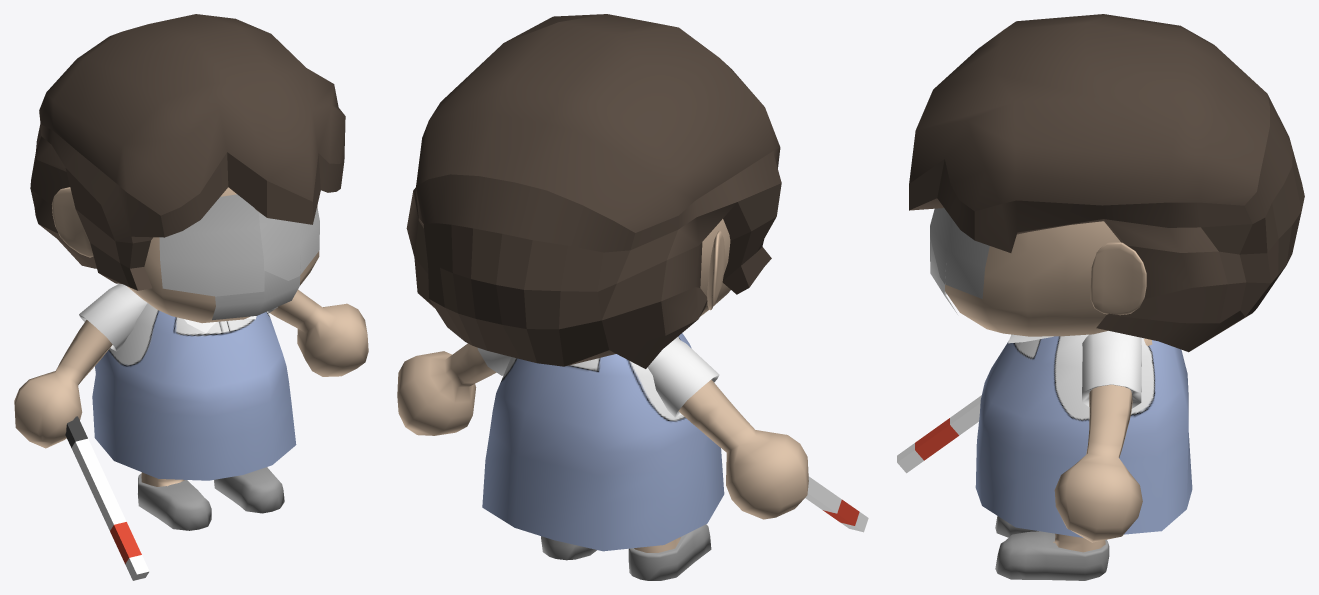
Rendered from VisuallyImpaired V2.fbx.
3 renders of one model, left to right at view 1: azimuth 30°, elevation 25°; view 2: azimuth 150°, elevation 25°; view 3: azimuth 270°, elevation 25°, orthographic. The views are drawn at different scales.
Visible parts, largest first — view 1: Hair_v2_6, shirt_n_pants10, polySurface4, eyes, white_cane, pCube56, pCylinder24, mouth, pCube55; view 2: Hair_v2_6, shirt_n_pants10, polySurface4, pCylinder24, pCube56, white_cane, pCube55; view 3: Hair_v2_6, shirt_n_pants10, polySurface4, pCube55, pCylinder25, eyes, white_cane.
Boxes of the visible parts, x1,y1,x2,y2 form: Hair_v2_6: (30, 14, 345, 290); shirt_n_pants10: (92, 303, 296, 480); polySurface4: (14, 187, 368, 486); eyes: (159, 194, 319, 296); white_cane: (65, 416, 149, 580); pCube56: (138, 473, 211, 530); pCylinder24: (79, 283, 147, 351); mouth: (212, 255, 300, 320); pCube55: (214, 467, 284, 513); Hair_v2_6: (406, 14, 781, 368); shirt_n_pants10: (482, 333, 724, 551); polySurface4: (397, 219, 808, 552); pCylinder24: (647, 338, 719, 417); pCube56: (628, 524, 711, 580); white_cane: (805, 476, 868, 532); pCube55: (541, 536, 596, 560); Hair_v2_6: (909, 14, 1304, 352); shirt_n_pants10: (975, 334, 1192, 537); polySurface4: (945, 221, 1152, 552); pCube55: (995, 531, 1109, 580); pCylinder25: (1082, 331, 1141, 408); eyes: (930, 208, 989, 298); white_cane: (897, 395, 981, 473).
Bounding box in the file's own units: 5.07 × 6.27 × 4.43.
